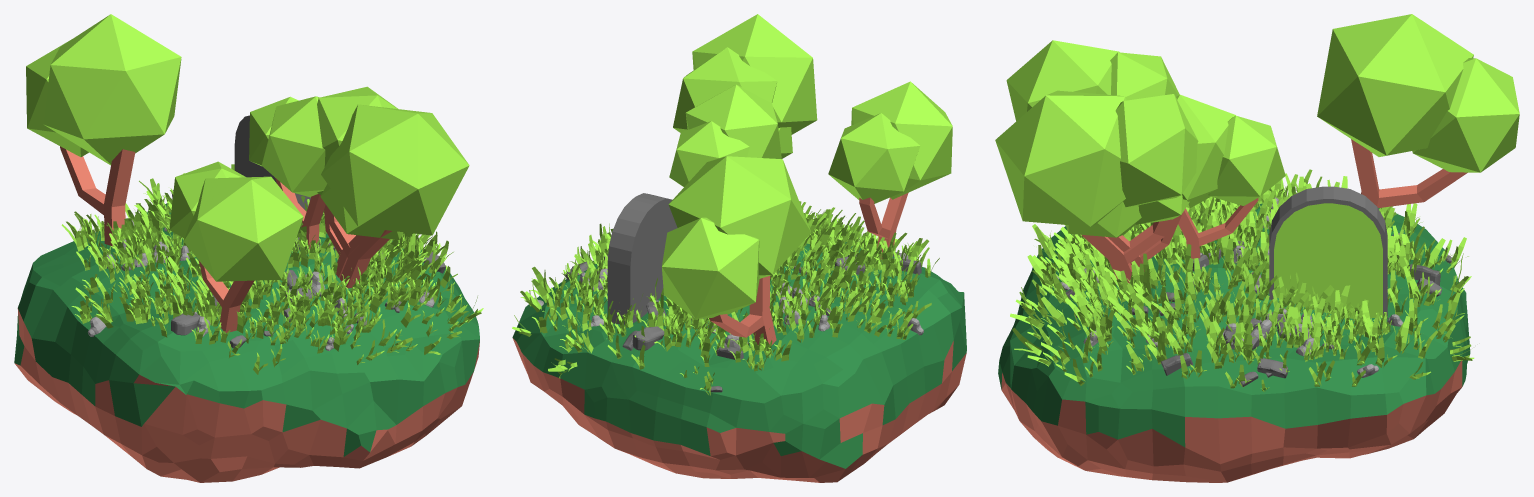
File: Teleport Island.fbx
3 views of the same model, side by side, from view 1: azimuth 30°, elevation 25°; view 2: azimuth 150°, elevation 25°; view 3: azimuth 270°, elevation 25° (orthographic). The views are drawn at different scales.
Parts seen in each view (by area): view 1: Teleport Island, Teleport Island|Tree 1|Dupli|1.2, Teleport Island|Tree 1|Dupli|4.2, Teleport Island|Tree 1|Dupli|0.2, Teleport Island|Tree 1|Dupli|2.2, Teleport Island|Tree 1|Dupli|3.2, Teleporter; view 2: Teleport Island, Teleport Island|Tree 1|Dupli|1.2, Teleport Island|Tree 1|Dupli|0.2, Teleport Island|Tree 1|Dupli|4.2, Teleport Island|Tree 1|Dupli|2.2, Teleporter, Teleport Island|Rock 1|Dupli|68.1; view 3: Teleport Island, Teleport Island|Tree 1|Dupli|1.2, Teleport Island|Tree 1|Dupli|4.2, Teleport Plane, Teleport Island|Tree 1|Dupli|2.2, Teleport Island|Tree 1|Dupli|0.2, Teleport Island|Tree 1|Dupli|3.2, Teleporter.
Boxes of the visible parts, x1,y1,x2,y2 form: Teleport Island: (14,203,479,482); Teleport Island|Tree 1|Dupli|1.2: (26,14,181,246); Teleport Island|Tree 1|Dupli|4.2: (317,86,469,288); Teleport Island|Tree 1|Dupli|0.2: (169,161,303,332); Teleport Island|Tree 1|Dupli|2.2: (249,96,327,249); Teleport Island|Tree 1|Dupli|3.2: (317,184,403,277); Teleporter: (234,115,310,209); Teleport Island: (512,242,966,482); Teleport Island|Tree 1|Dupli|1.2: (662,156,811,345); Teleport Island|Tree 1|Dupli|0.2: (828,81,952,259); Teleport Island|Tree 1|Dupli|4.2: (673,14,817,134); Teleport Island|Tree 1|Dupli|2.2: (669,84,781,186); Teleporter: (607,193,677,324); Teleport Island|Rock 1|Dupli|68.1: (632,326,664,350); Teleport Island: (998,200,1470,482); Teleport Island|Tree 1|Dupli|1.2: (1317,14,1519,208); Teleport Island|Tree 1|Dupli|4.2: (995,90,1198,283); Teleport Plane: (1274,203,1382,318); Teleport Island|Tree 1|Dupli|2.2: (1176,94,1285,258); Teleport Island|Tree 1|Dupli|0.2: (1006,40,1179,121); Teleport Island|Tree 1|Dupli|3.2: (1065,195,1189,271); Teleporter: (1269,186,1387,318).
Size of the model in its own units: 195 by 181 by 222.
